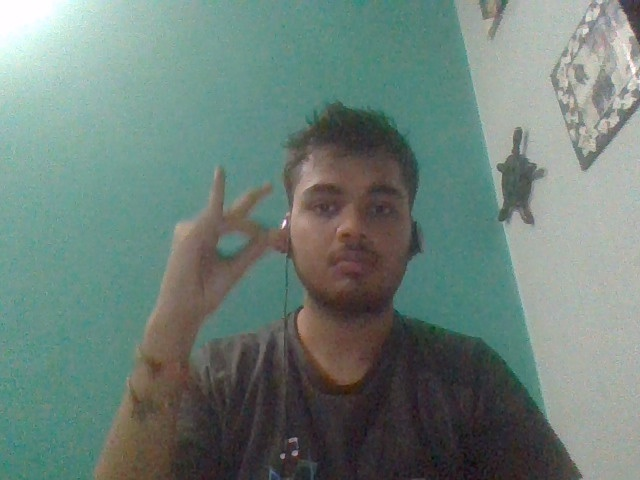no: (160, 165, 282, 313)
